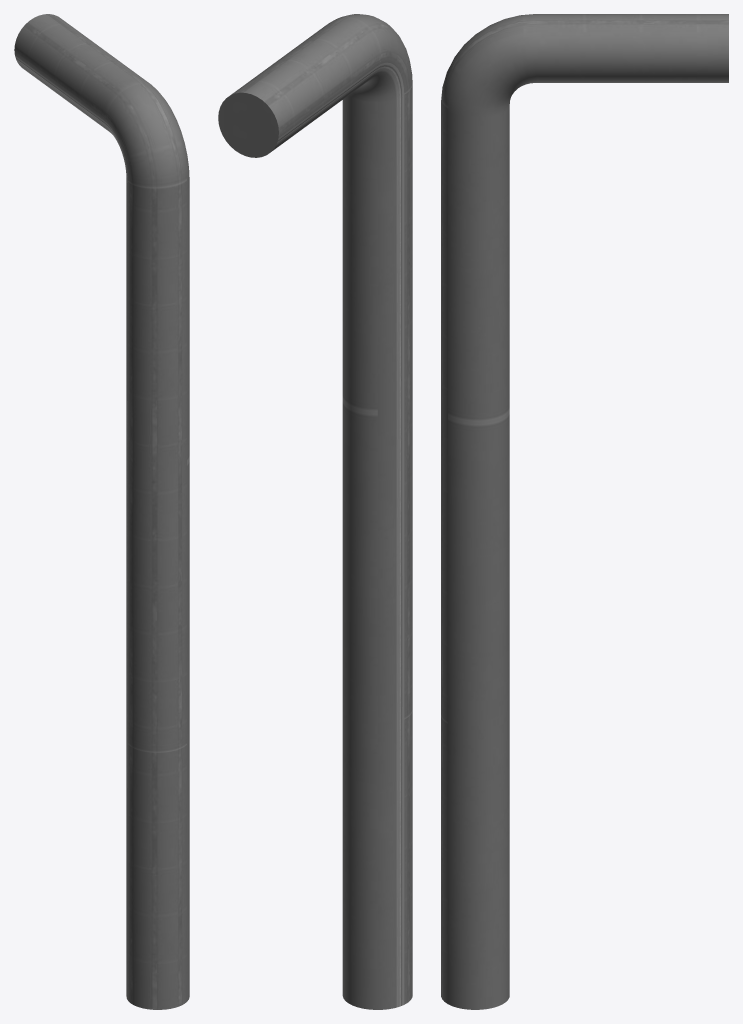
Rendered from SM_pipe_02.glb.
3 renders of one model, left to right at view 1: azimuth 30°, elevation 25°; view 2: azimuth 150°, elevation 25°; view 3: azimuth 270°, elevation 25°, orthographic. The views are drawn at different scales.
Parts seen in each view (by area): view 1: SM_pipe_02; view 2: SM_pipe_02; view 3: SM_pipe_02.
Boxes of the visible parts, <box> form: SM_pipe_02: <box>14,14,189,1009</box>; SM_pipe_02: <box>218,14,412,1009</box>; SM_pipe_02: <box>441,14,728,1009</box>.
Size of the model in its own units: 0.32 by 5.01 by 1.34.
1 material, 1 textured.
